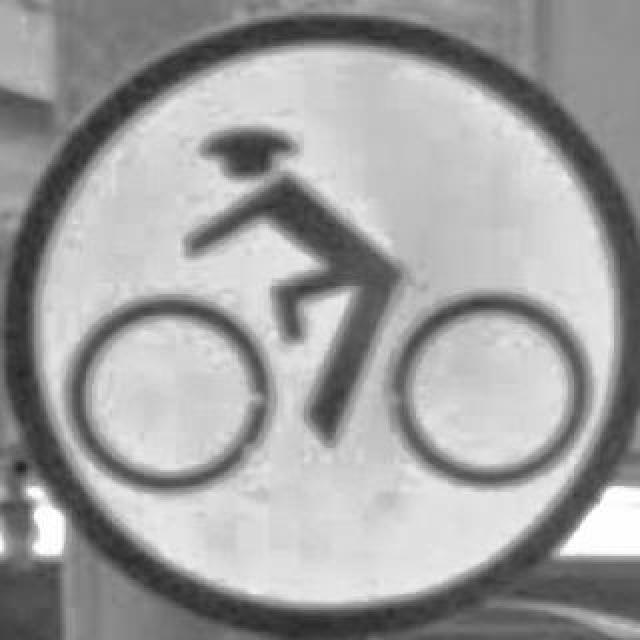bike lane: (0, 14, 636, 638)
